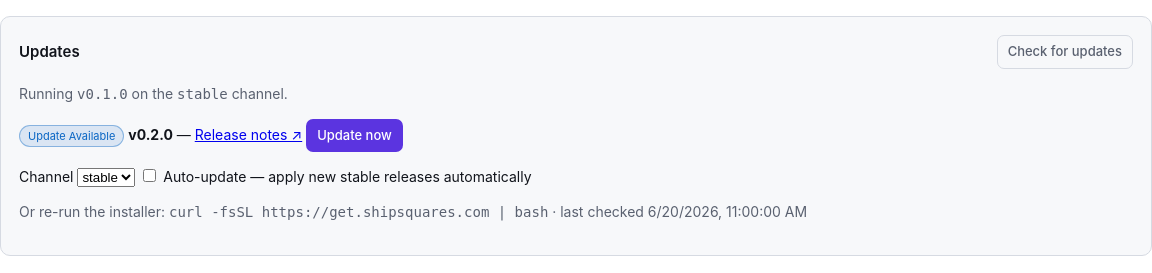
Scenario: UpdatesCard › applies an update and shows progress
Click the button "Update now": (354, 135) x1=306 y1=118 x2=403 y2=152
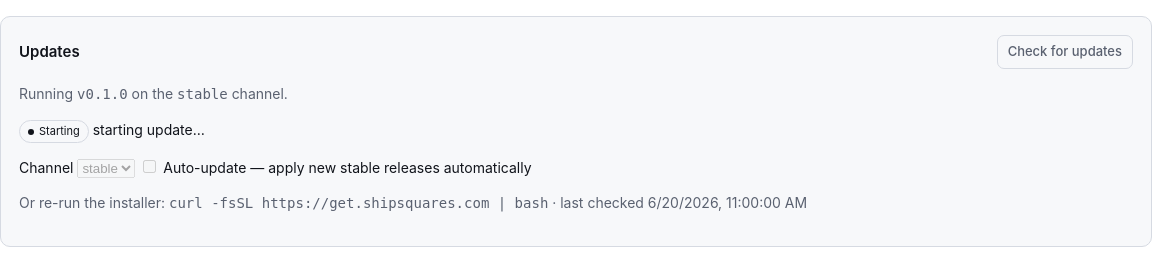
Expected: the text "starting starting update…" is shown, x1=19 y1=120 x2=205 y2=143
